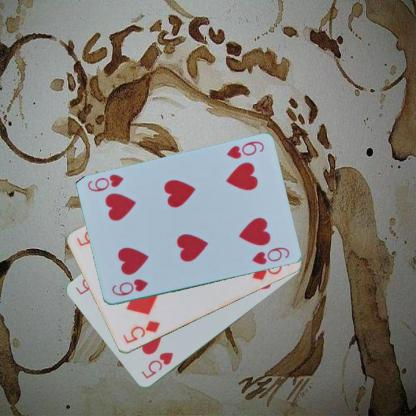5d: (120, 318, 161, 345)
5h: (138, 350, 175, 380)
6h: (224, 138, 265, 160), (109, 276, 149, 298)
